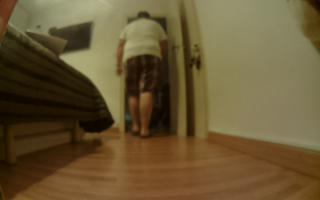person: (114, 10, 170, 137)
